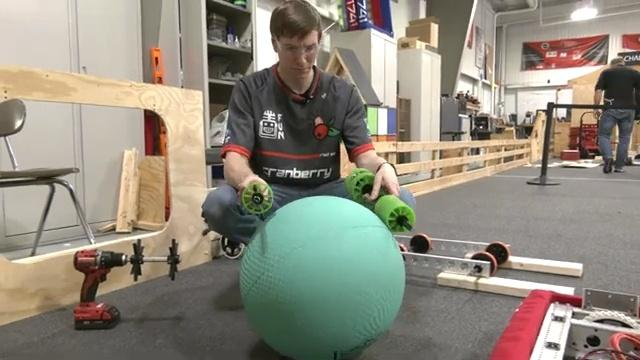ALGAE: (238, 194, 407, 358)
